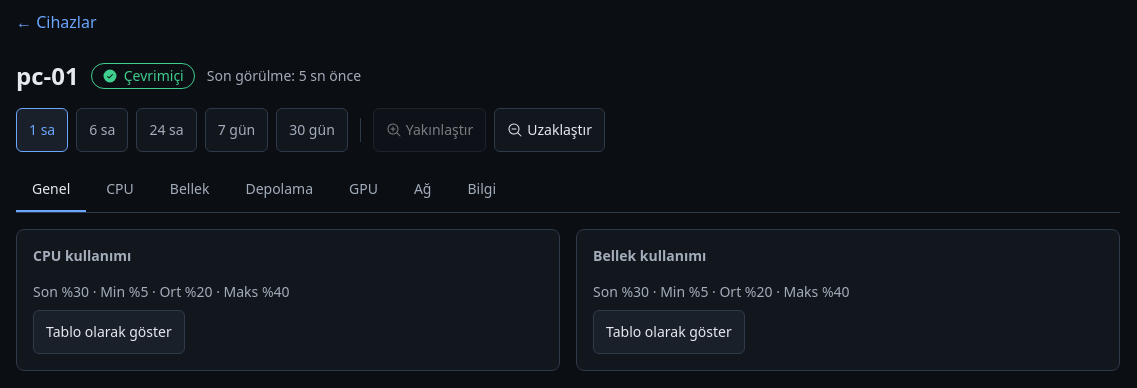
Test: zaman araligi, yakinlastirma, veri tablosu › klavyeyle Uzaklastir/Yakinlastir dugmeleri araligi onayarlar arasinda degistirir (fircaya alternatif)
The image size is (1137, 388).
Click the button "Uzaklaştır": (550, 130) [494, 108, 605, 152]
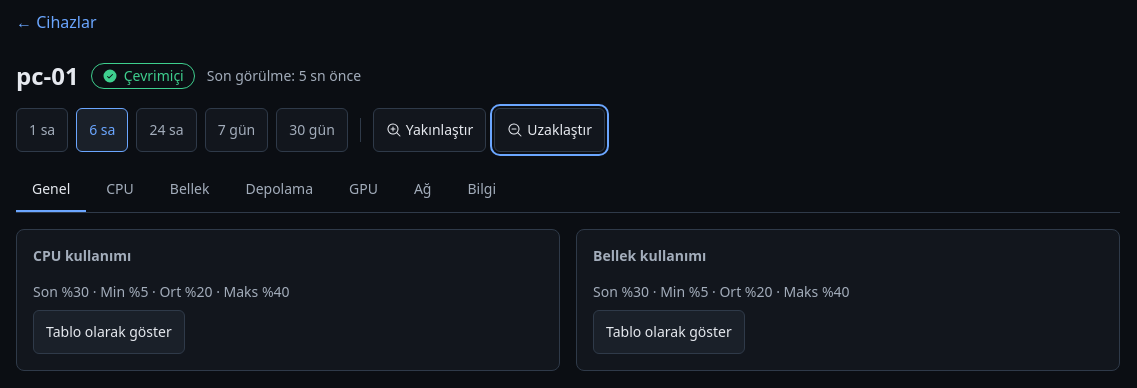
Result: the button "6 sa" is pressed at [76, 108, 128, 152]
Click the button "Yakınlaştır": (430, 130) [373, 108, 486, 152]
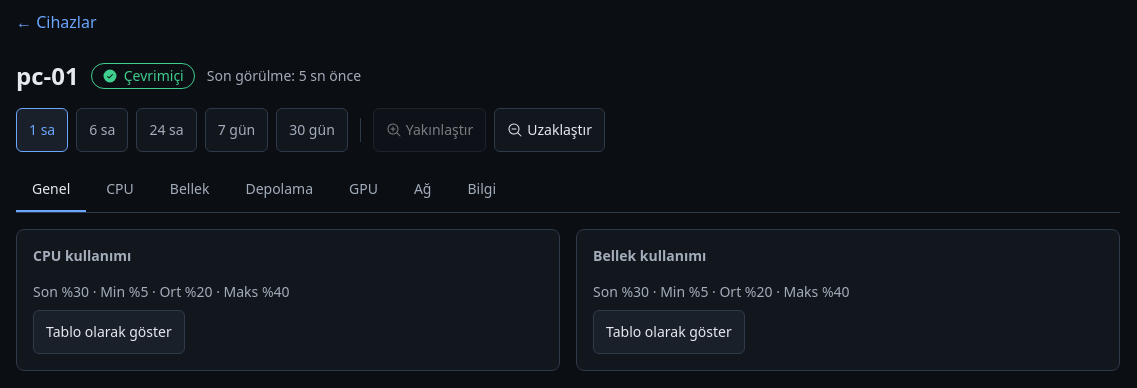
Result: the button "Yakınlaştır" is disabled at [373, 108, 486, 152]
